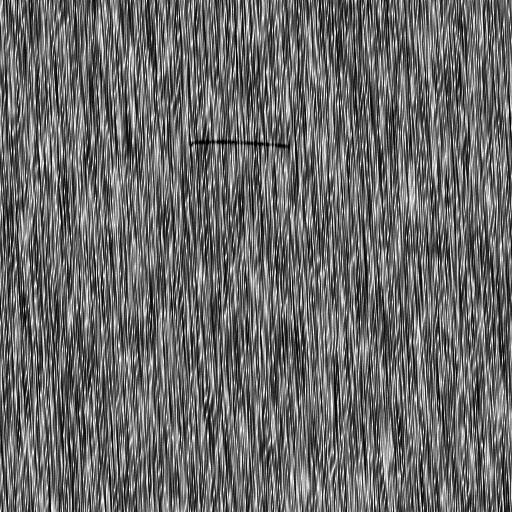DefectTypeC: (188, 136, 290, 154)
